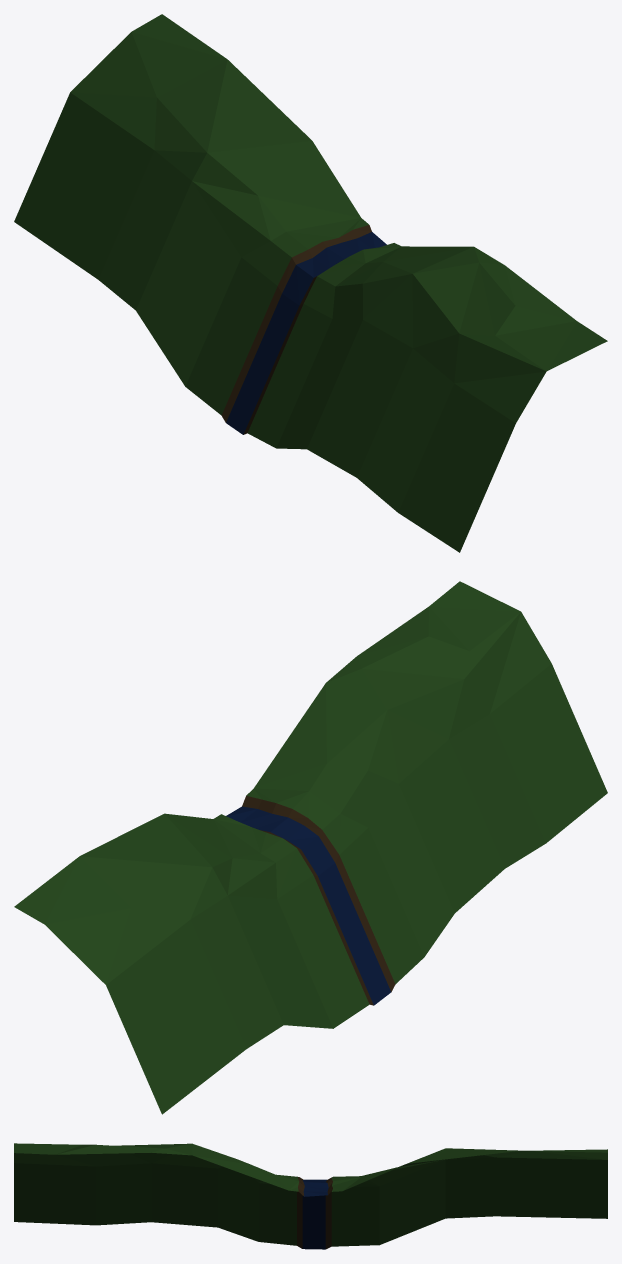
File: backgroundHills.fbx
The picture shows the model from 3 angles, top to bottom: view 1: azimuth 30°, elevation 25°; view 2: azimuth 150°, elevation 25°; view 3: azimuth 270°, elevation 25°; orthographic projection. The views are drawn at different scales.
Visible parts, largest first — view 1: Plane001; view 2: Plane001; view 3: Plane001.
Boxes of the visible parts, <box> form: Plane001: <box>14,14,607,552</box>; Plane001: <box>14,581,607,1114</box>; Plane001: <box>14,1143,607,1249</box>.
Size of the model in its own units: 27571 by 143771 by 39217.
